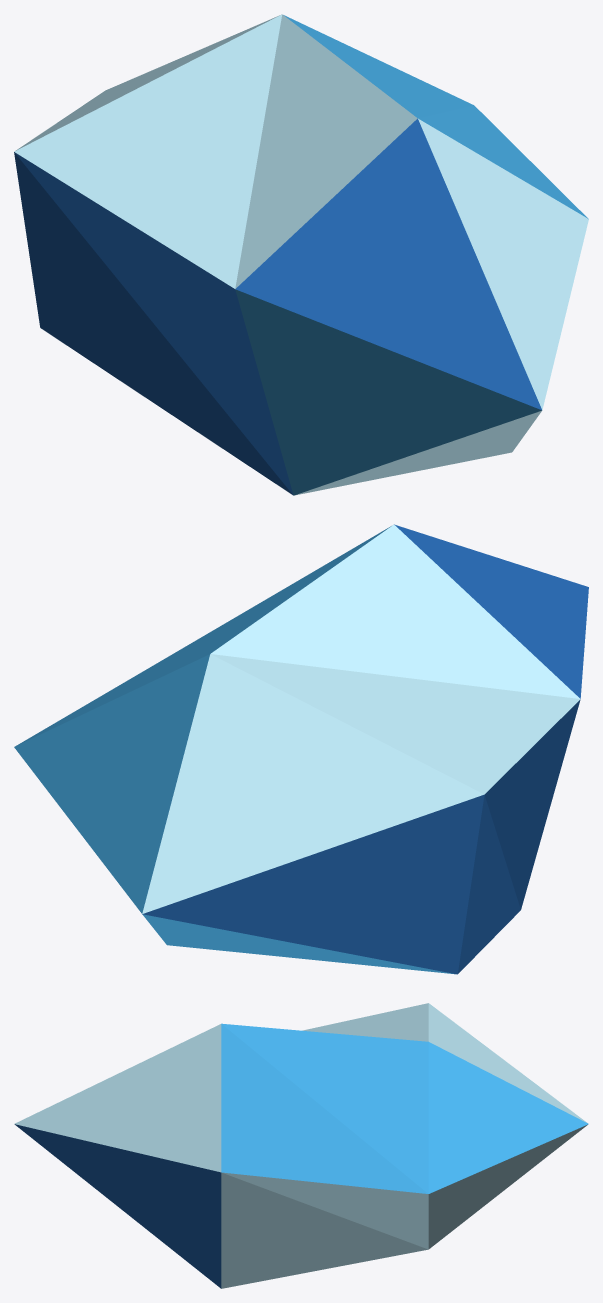
The model's file is crystal_shard_wide.obj.
3 views of the same model, one above another, from view 1: azimuth 30°, elevation 25°; view 2: azimuth 150°, elevation 25°; view 3: azimuth 270°, elevation 25° (orthographic). The views are drawn at different scales.
Parts seen in each view (by area): view 1: 00_crystal_shard_wide; view 2: 00_crystal_shard_wide; view 3: 00_crystal_shard_wide.
Part boxes in pixels (x1,y1,x2,y2): 00_crystal_shard_wide: [14, 14, 588, 495]; 00_crystal_shard_wide: [14, 524, 588, 974]; 00_crystal_shard_wide: [14, 1003, 588, 1288].
Bounding box in the file's own units: 0.0371 × 0.0275 × 0.061.
